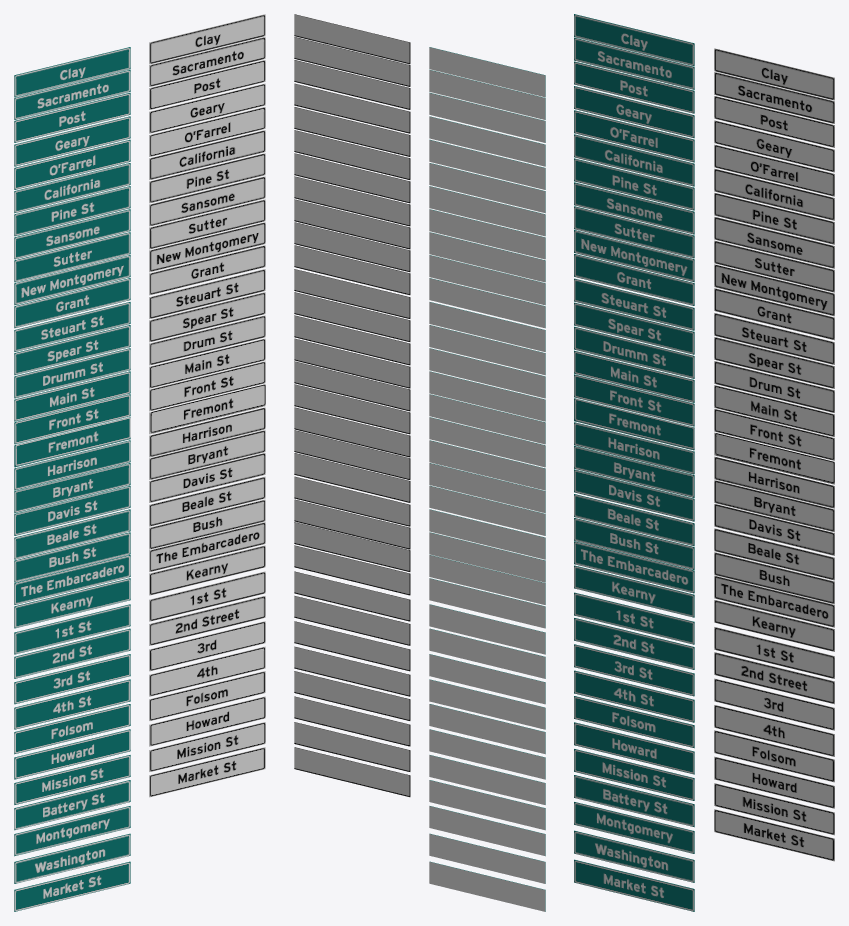
The model's file is SignsSF.fbx.
3 renders of one model, left to right at view 1: azimuth 30°, elevation 25°; view 2: azimuth 150°, elevation 25°; view 3: azimuth 330°, elevation 25°, orthographic. The views are drawn at different scales.
Visible parts, largest first — view 1: SansomeWhite, DrumWhite, FrontWhite, KearnyWhite, SutterWhite, HarrisonWhite, DavisWhite, BealeWhite, FourthStWhite, NewMontgomeryGreen, HarrisonGreen, BatteryStGreen (+55 smaller); view 2: SansomeWhite, DrumWhite, FrontWhite, KearnyWhite, SutterWhite, HarrisonWhite, DavisWhite, BealeWhite, FourthStWhite, NewMontgomeryGreen, HarrisonGreen, BatteryStGreen (+55 smaller); view 3: CaliforniaWhite, FremontWhite, HowardWhite, SansomeGreen, GearyWhite, O_FarrelWhite, SutterWhite, ThirdStWhite, MarketWhite, ClayGreen, PostGreen, SteuartGreen (+55 smaller).
Boxes of the visible parts, box(x1,y1,x2,y2) form: SansomeWhite: box(149, 176, 265, 226); DrumWhite: box(149, 315, 265, 365); FrontWhite: box(149, 361, 265, 411); KearnyWhite: box(149, 545, 265, 595); SutterWhite: box(149, 199, 265, 249); HarrisonWhite: box(149, 407, 265, 457); DavisWhite: box(149, 452, 265, 502); BealeWhite: box(149, 476, 265, 526); FourthStWhite: box(149, 646, 265, 696); NewMontgomeryGreen: box(14, 255, 130, 305); HarrisonGreen: box(14, 440, 130, 490); BatteryStGreen: box(14, 780, 130, 830); SansomeWhite: box(294, 176, 410, 226); DrumWhite: box(294, 315, 410, 365); FrontWhite: box(294, 361, 410, 411); KearnyWhite: box(294, 545, 410, 595); SutterWhite: box(294, 199, 410, 249); HarrisonWhite: box(294, 407, 410, 457); DavisWhite: box(294, 452, 410, 502); BealeWhite: box(294, 476, 410, 526); FourthStWhite: box(294, 646, 410, 696); NewMontgomeryGreen: box(429, 255, 545, 305); HarrisonGreen: box(429, 440, 545, 490); BatteryStGreen: box(429, 780, 545, 830); CaliforniaWhite: box(714, 168, 834, 220); FremontWhite: box(714, 432, 834, 484); HowardWhite: box(714, 756, 834, 808); SansomeGreen: box(574, 182, 694, 234); GearyWhite: box(714, 120, 834, 172); O_FarrelWhite: box(714, 144, 834, 196); SutterWhite: box(714, 240, 834, 292); ThirdStWhite: box(714, 678, 834, 730); MarketWhite: box(714, 809, 834, 861); ClayGreen: box(574, 14, 694, 66); PostGreen: box(574, 61, 694, 113); SteuartGreen: box(574, 278, 694, 330).
Bounding box in the file's own units: 131 × 417 × 0.24.
2 materials, 2 textured.
